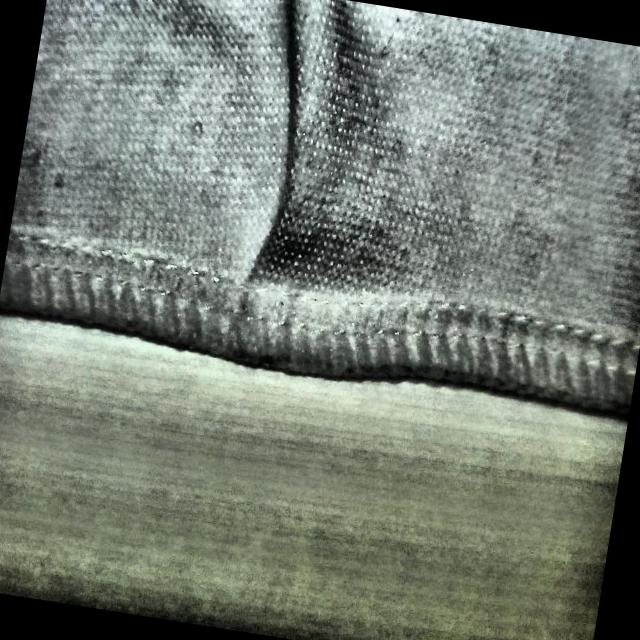gray stitch: (188, 100, 364, 380)
